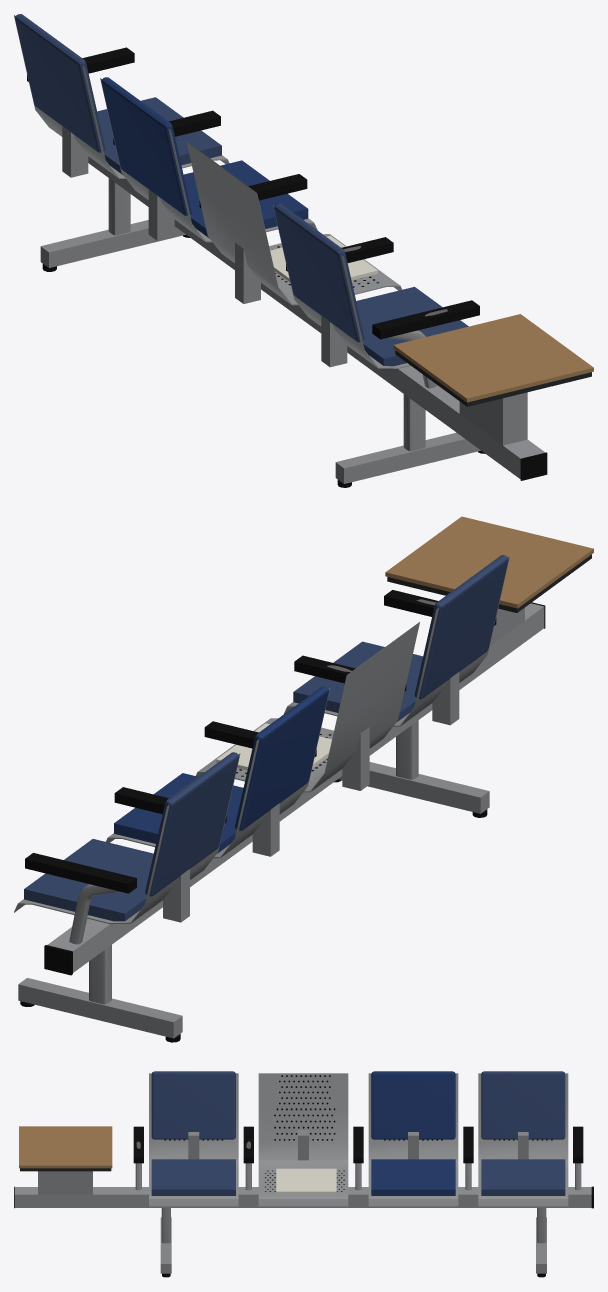
Rendered from seats_row@1.glb.
The picture shows the model from 3 angles, top to bottom: view 1: azimuth 30°, elevation 25°; view 2: azimuth 150°, elevation 25°; view 3: azimuth 270°, elevation 25°; orthographic projection. The views are drawn at different scales.
Parts seen in each view (by area): view 1: sitze_4, sitze_0, sitze_2, sitze_8, sitze_5, sitze_1, sitze_7, sitze_9; view 2: sitze_4, sitze_0, sitze_2, sitze_8, sitze_5, sitze_1, sitze_9, sitze_7; view 3: sitze_0, sitze_4, sitze_5, sitze_2, sitze_8, sitze_1, sitze_9, sitze_3, sitze_7.
Boxes of the visible parts, x1=… form: sitze_4: x1=15, y1=14, x2=468, y2=366; sitze_0: x1=14, y1=15, x2=545, y2=478; sitze_2: x1=40, y1=126, x2=527, y2=483; sitze_8: x1=393, y1=314, x2=593, y2=402; sitze_5: x1=101, y1=77, x2=308, y2=238; sitze_1: x1=27, y1=47, x2=547, y2=487; sitze_7: x1=395, y1=350, x2=591, y2=406; sitze_9: x1=270, y1=236, x2=377, y2=282; sitze_4: x1=24, y1=555, x2=508, y2=921; sitze_0: x1=14, y1=556, x2=544, y2=972; sitze_2: x1=18, y1=607, x2=524, y2=1038; sitze_8: x1=385, y1=516, x2=593, y2=608; sitze_5: x1=114, y1=686, x2=328, y2=853; sitze_1: x1=20, y1=590, x2=545, y2=1042; sitze_9: x1=216, y1=723, x2=331, y2=770; sitze_7: x1=387, y1=554, x2=591, y2=612; sitze_0: x1=14, y1=1073, x2=591, y2=1207; sitze_4: x1=151, y1=1071, x2=565, y2=1195; sitze_5: x1=371, y1=1071, x2=455, y2=1195; sitze_2: x1=38, y1=1130, x2=581, y2=1273; sitze_8: x1=19, y1=1126, x2=112, y2=1168; sitze_1: x1=14, y1=1126, x2=593, y2=1277; sitze_9: x1=276, y1=1168, x2=336, y2=1193; sitze_3: x1=164, y1=1075, x2=552, y2=1191; sitze_7: x1=20, y1=1168, x2=111, y2=1171.
Bounding box in the file's own units: 0.656 × 0.9421 × 3.17.
